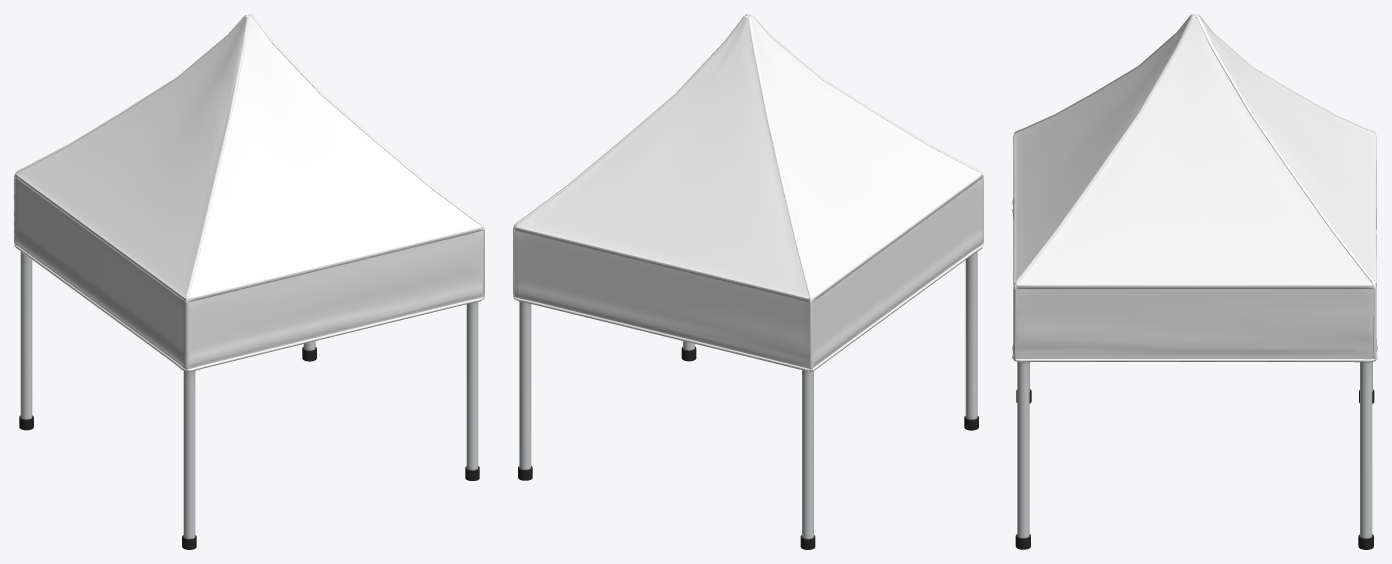
The model's file is canopy-6.5x6.5.glb.
3 views of the same model, side by side, from view 1: azimuth 30°, elevation 25°; view 2: azimuth 150°, elevation 25°; view 3: azimuth 270°, elevation 25° (orthographic). The views are drawn at different scales.
Visible parts, largest first — view 1: fabric, leg; view 2: fabric, leg; view 3: fabric, leg.
Part boxes in pixels (x1,y1,x2,y2): fabric: (14,14,484,371); leg: (19,252,479,549); fabric: (513,14,983,371); leg: (518,251,978,549); fabric: (1012,14,1377,362); leg: (1015,361,1374,549).
Size of the model in its own units: 1.53 by 2.12 by 1.53.
3 materials, 1 textured.
